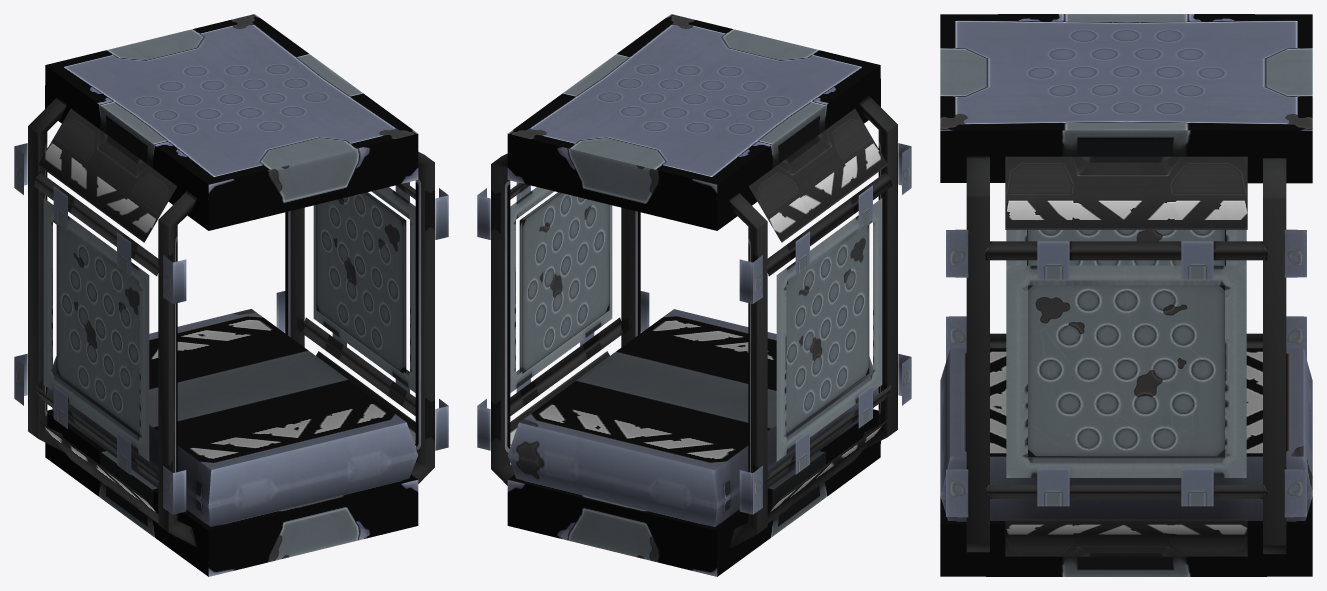
File: obj_interactive_resourcecontainer_bshape_lod1.fbx
The picture shows the model from 3 angles, left to right: view 1: azimuth 30°, elevation 25°; view 2: azimuth 150°, elevation 25°; view 3: azimuth 270°, elevation 25°; orthographic projection. The views are drawn at different scales.
Parts seen in each view (by area): view 1: obj_interactive_resourcecontainer_geo_lod4; view 2: obj_interactive_resourcecontainer_geo_lod4; view 3: obj_interactive_resourcecontainer_geo_lod4.
Boxes of the visible parts, x1,y1,x2,y2 form: obj_interactive_resourcecontainer_geo_lod4: (14, 14, 448, 576); obj_interactive_resourcecontainer_geo_lod4: (477, 14, 911, 576); obj_interactive_resourcecontainer_geo_lod4: (940, 14, 1312, 576).
Size of the model in its own units: 5.95 by 7.95 by 6.
Materials: 1 (1 with a texture image).
